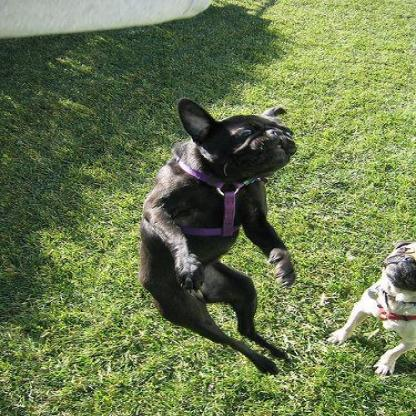pug: (133, 97, 301, 375), (138, 100, 300, 374), (326, 237, 412, 375)
